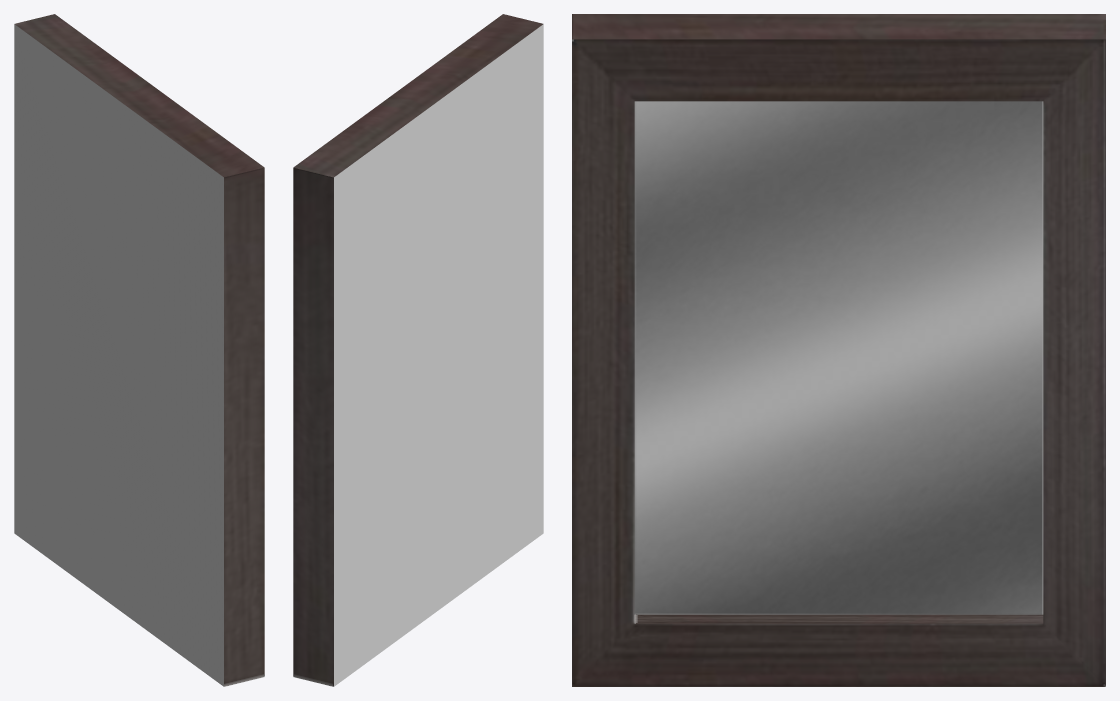
File: DR_Mirror_1.fbx
3 views of the same model, side by side, from view 1: azimuth 30°, elevation 25°; view 2: azimuth 150°, elevation 25°; view 3: azimuth 270°, elevation 25° (orthographic). The views are drawn at different scales.
Visible parts, largest first — view 1: DR_Mirror_1; view 2: DR_Mirror_1; view 3: DR_Mirror_1.
Part boxes in pixels (left/top/right/bottom): DR_Mirror_1: left=14, top=14, right=264, bottom=686; DR_Mirror_1: left=293, top=14, right=543, bottom=686; DR_Mirror_1: left=572, top=14, right=1105, bottom=686.
Bounding box in the file's own units: 37.26 × 446 × 333.
